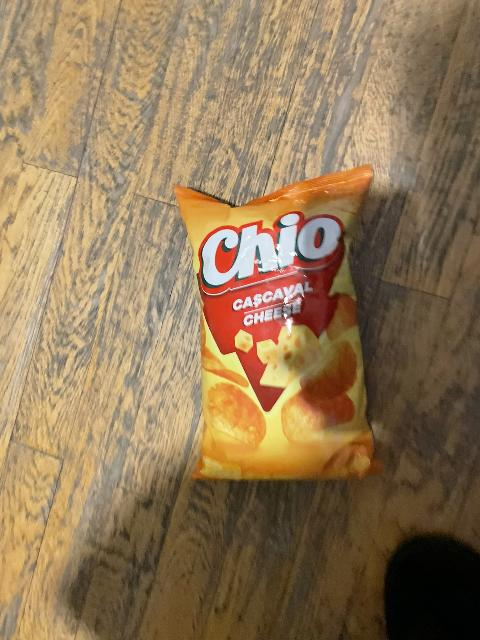Chio Cascaval 125g: (178, 171, 384, 480)
